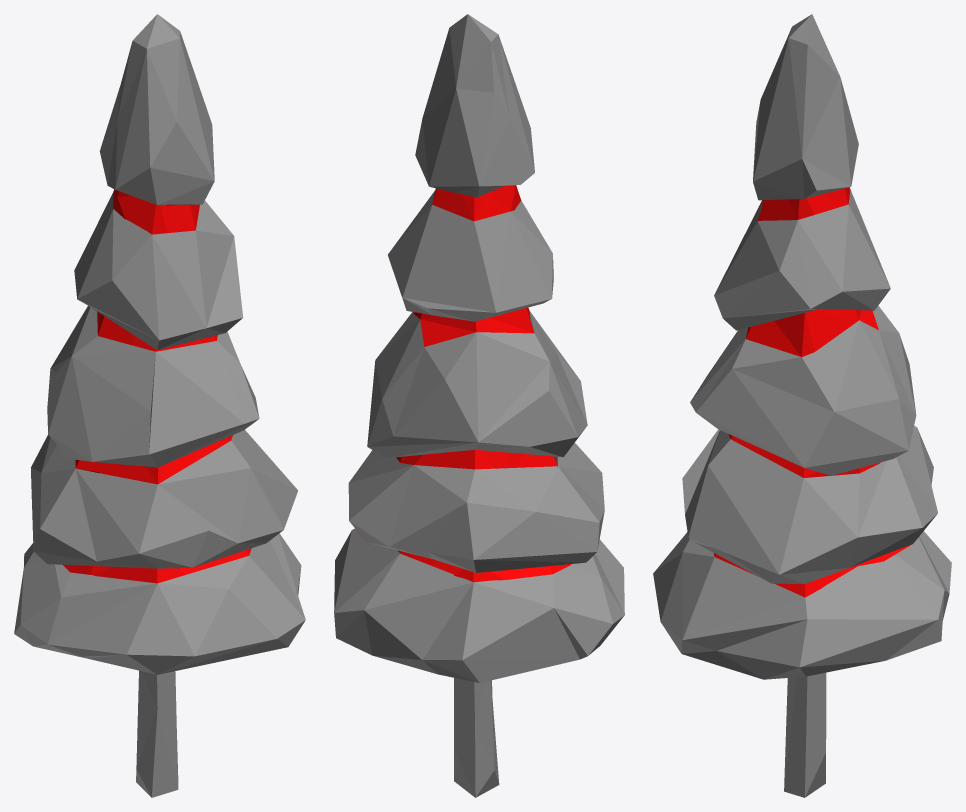
File: Pine Tree Snowy.FBX
3 renders of one model, left to right at view 1: azimuth 30°, elevation 25°; view 2: azimuth 150°, elevation 25°; view 3: azimuth 270°, elevation 25°, orthographic.
Visible parts, largest first — view 1: Snow, Leaves, Trunk; view 2: Snow, Leaves, Trunk; view 3: Snow, Leaves, Trunk.
Part boxes in pixels (x1,y1,x2,y2): Snow: (14,14,305,674); Leaves: (63,189,251,583); Trunk: (136,670,178,797); Snow: (334,14,624,682); Leaves: (358,185,571,582); Trunk: (454,678,499,797); Snow: (653,14,951,679); Leaves: (714,187,912,597); Trunk: (784,672,826,797).
Bounding box in the file's own units: 0.7487 × 1.98 × 0.6896.
